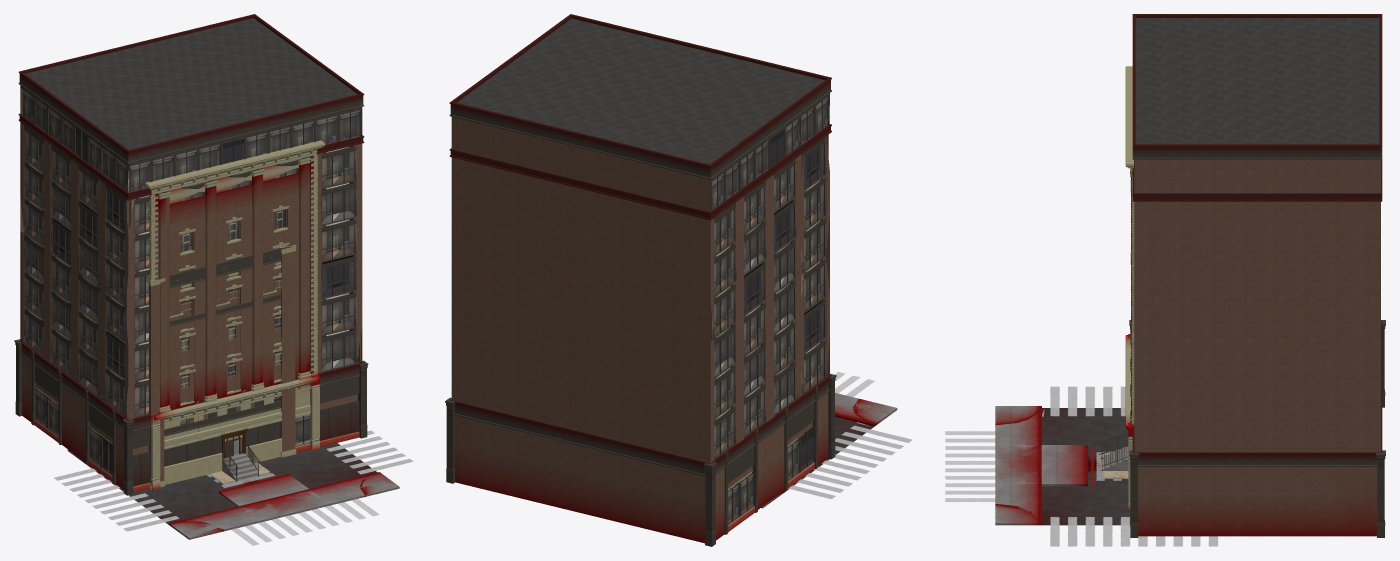
Rendered from city_lod.glb.
The picture shows the model from 3 angles, left to right: view 1: azimuth 30°, elevation 25°; view 2: azimuth 150°, elevation 25°; view 3: azimuth 270°, elevation 25°; orthographic projection. The views are drawn at different scales.
Parts seen in each view (by area): view 1: Building_Large_2, Building_Medium_2.001, Building_Small_1, Street_4WayIntersection, Street_TIntersection, Street_2Lane, Street_4Lane; view 2: Building_Large_2, Street_4WayIntersection, Street_TIntersection; view 3: Building_Large_2, Street_4WayIntersection, Street_TIntersection, Building_Medium_2.001, Street_2Lane, Street_4Lane, Building_Small_1.
Part boxes in pixels (x1,y1,x2,y2): Building_Large_2: (14,14,368,495); Building_Medium_2.001: (145,140,325,490); Building_Small_1: (78,228,296,489); Street_4WayIntersection: (54,430,413,545); Street_TIntersection: (55,431,412,539); Street_2Lane: (216,474,308,506); Street_4Lane: (240,460,329,517); Building_Large_2: (445,14,836,546); Street_4WayIntersection: (761,370,911,508); Street_TIntersection: (789,393,911,498); Building_Large_2: (1129,14,1385,537); Street_4WayIntersection: (945,386,1217,546); Street_TIntersection: (995,387,1217,546); Building_Medium_2.001: (1125,66,1134,511); Street_2Lane: (1041,445,1102,486); Street_4Lane: (995,445,1041,483); Building_Small_1: (1098,180,1130,470).
Size of the model in its own units: 24.67 by 28.2 by 28.66.
14 materials, 12 textured.
